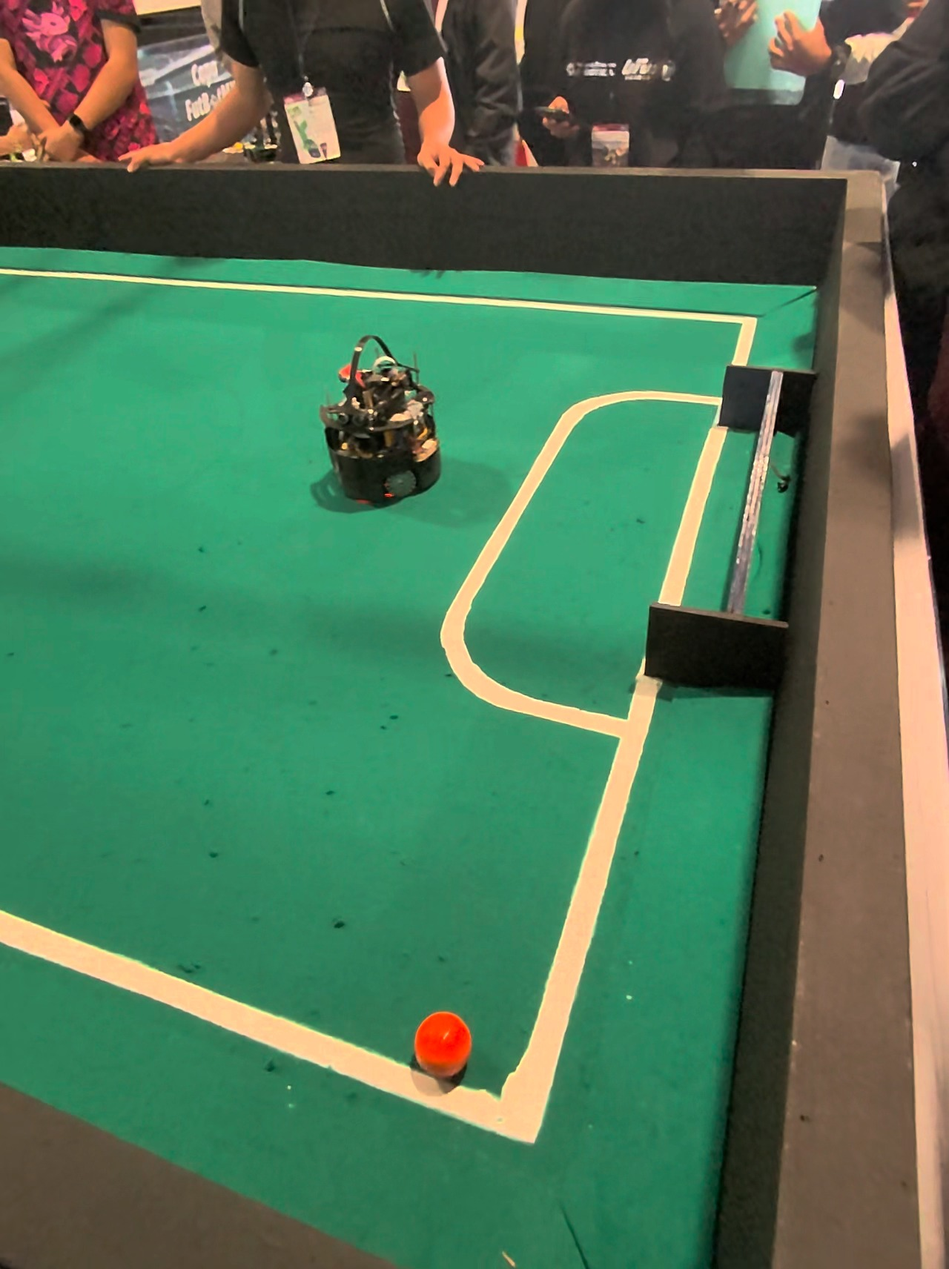Robot: (307, 332, 440, 519)
pelota: (414, 1006, 474, 1080)
